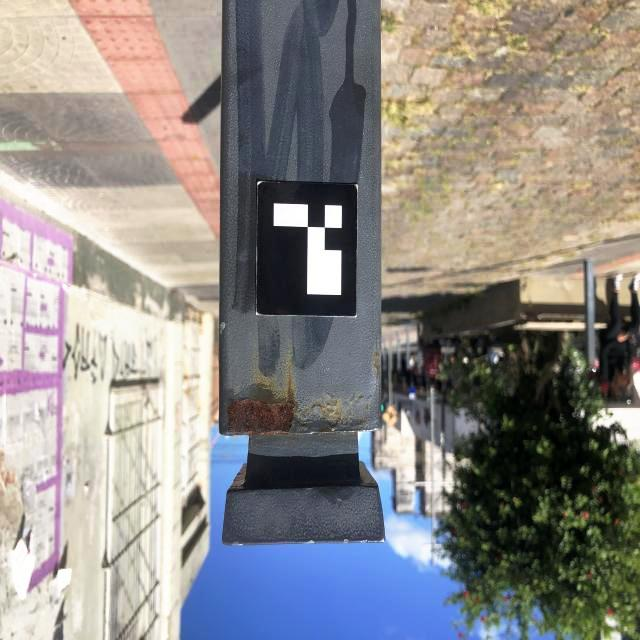Corrosion: (227, 398, 303, 436), (314, 403, 346, 423), (374, 353, 380, 378)
